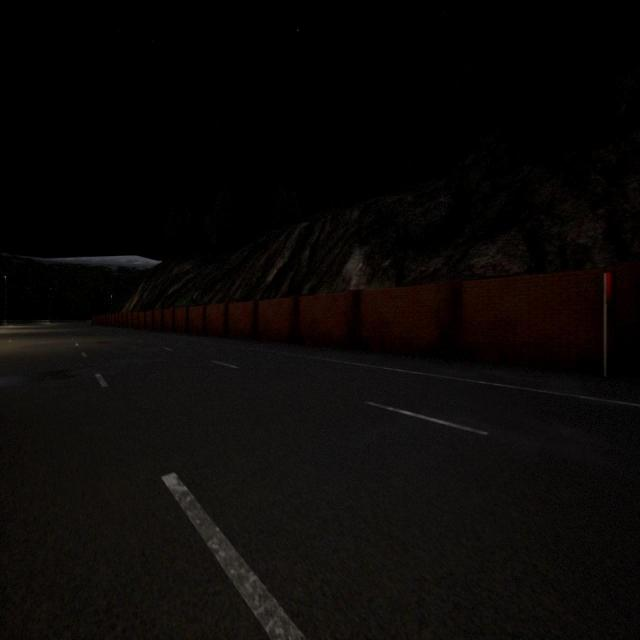Traffic_Signs: (603, 272, 612, 304)
